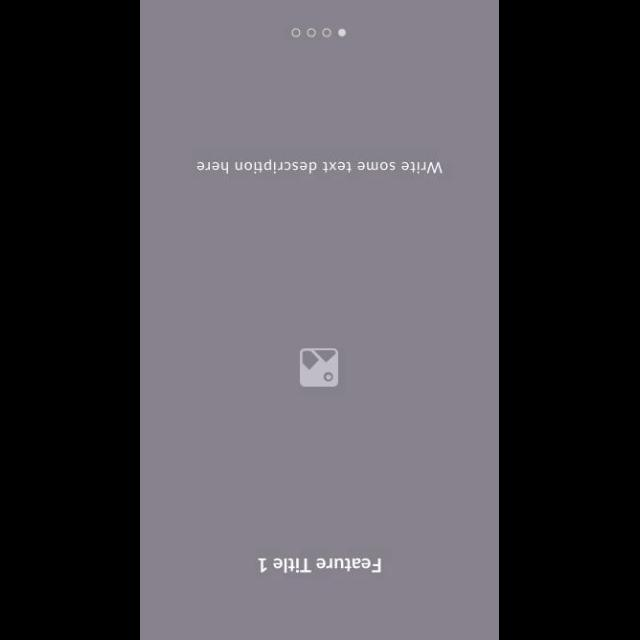image: (300, 348, 338, 387)
pageindicator: (290, 28, 346, 38)
text: (196, 159, 444, 175), (257, 556, 383, 572)
